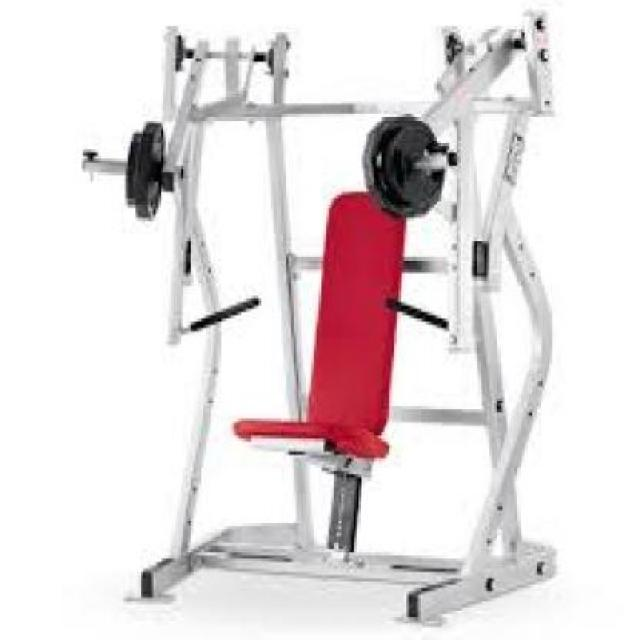Chest Press machine: (66, 3, 588, 631)
